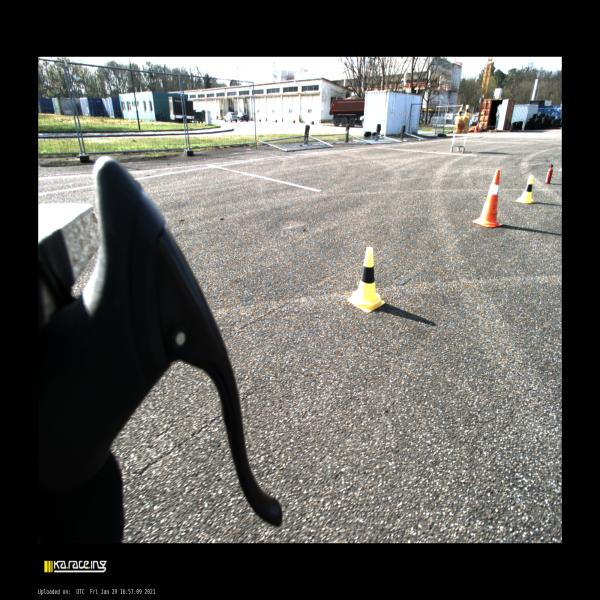large_orange_cone: (473, 169, 502, 228), (476, 121, 479, 132)
orange_cone: (474, 126, 477, 132)
yellow_cone: (347, 247, 385, 312), (515, 175, 534, 203), (456, 107, 462, 119), (465, 104, 469, 118)
